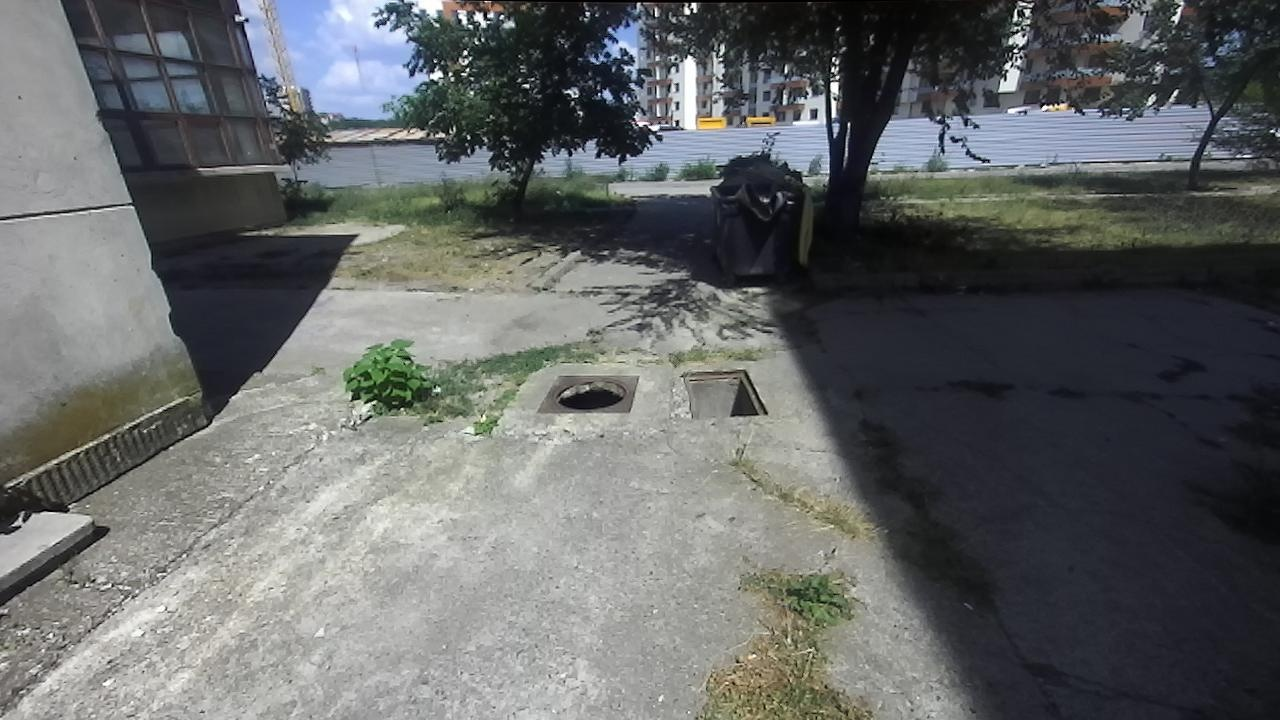drain: (675, 369, 772, 419), (552, 373, 633, 414)
